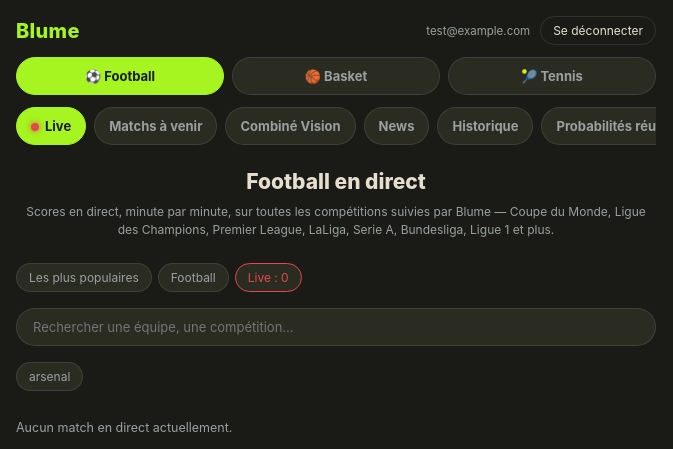
it: les recherches récentes du compte s'affichent en suggestions cliquables, propres à ce compte
The width and height of the screenshot is (673, 449).
Click the button "arsenal". click: click(50, 377)
box: [16,362,83,391]
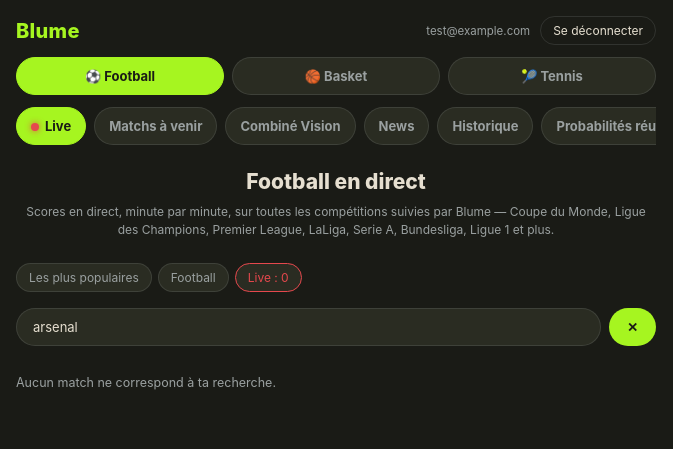
Now the field with placeholder "Rechercher une équipe, une compétition…" holds "arsenal", box [16,308,601,346]
